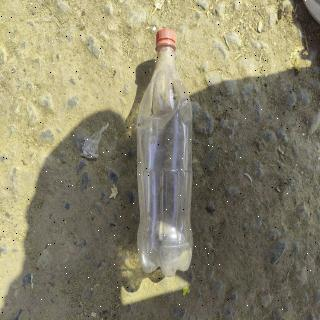Plastic-bottle: (133, 24, 197, 280)
